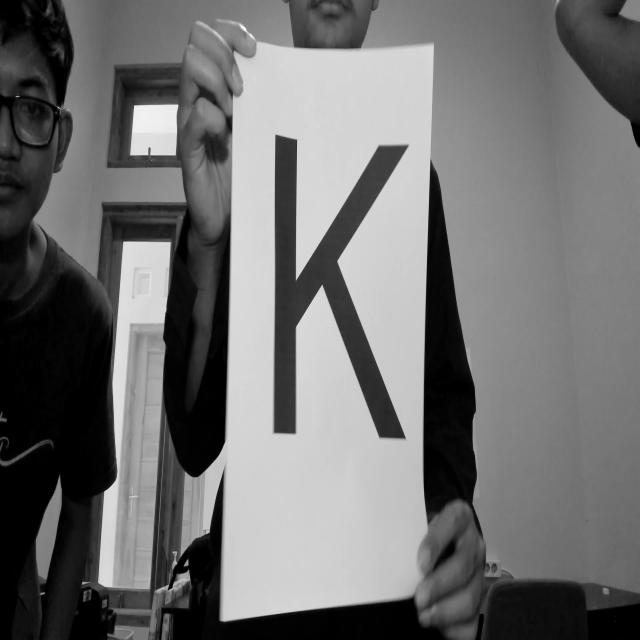k: (245, 96, 420, 518)
